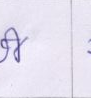i_matra: (8, 27, 24, 62)
